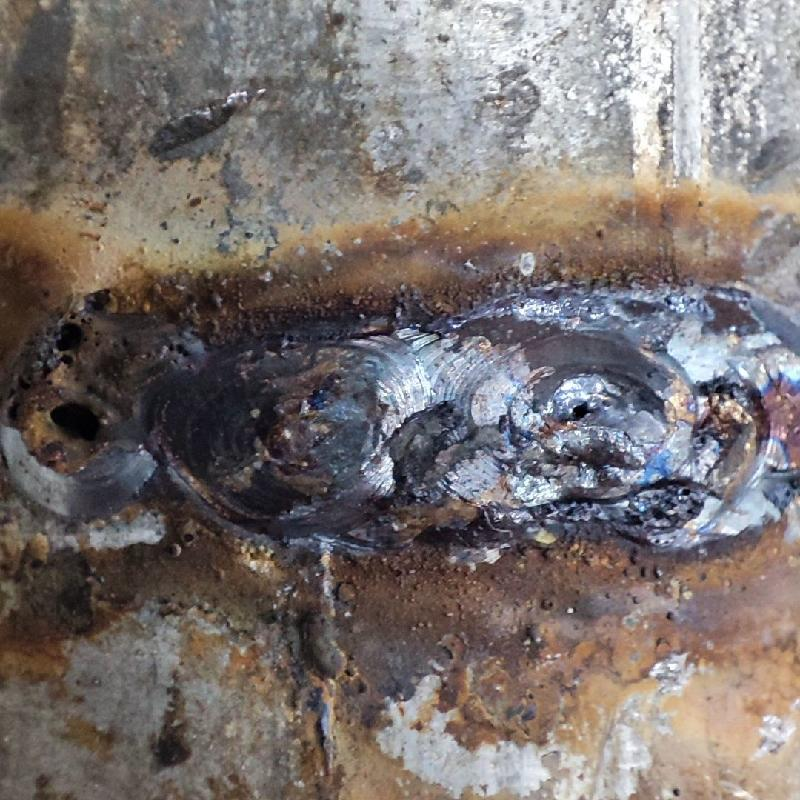Surface_pores: (39, 390, 105, 443), (559, 390, 597, 432)
crater: (433, 314, 799, 522)
